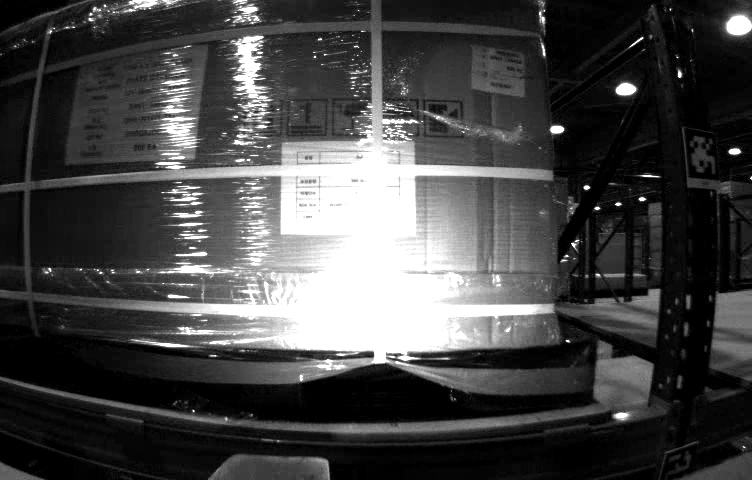True Barcode: (473, 46, 525, 97)
